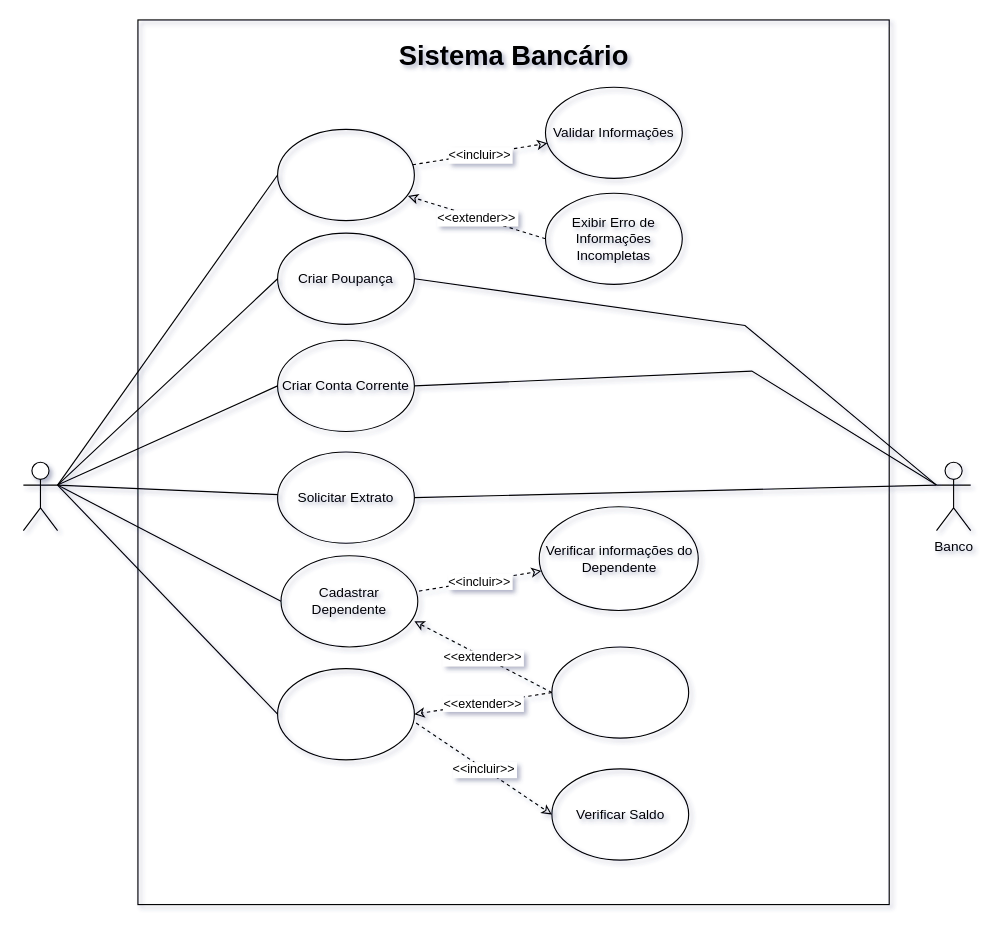
This 1000x931 diagram has some shape labels left out. The centre of each missing label's shape, as x and y in pixels:
"Cadastrar-se no Banco" goes at point (345, 174).
"Cliente" goes at point (40, 496).
"Exibir Erro" goes at point (620, 692).
"Realizar Ação Pré-Fixada" goes at point (345, 713).
